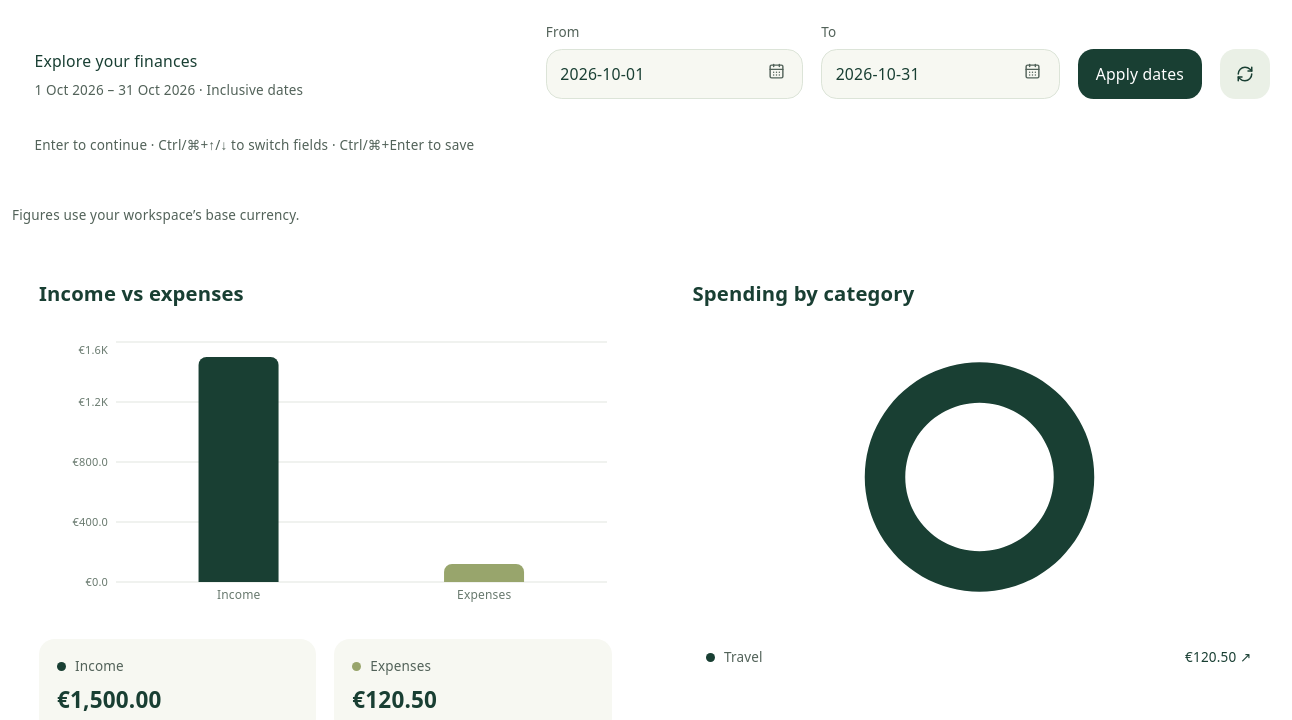
validates reversed and overly long date ranges without requesting them
Expected: the text "Travel" is shown, [706,648,763,666]
Replace the text in the field labelled "From" with "2026-10-31". click: (674, 74)
box: [546,50,803,99]
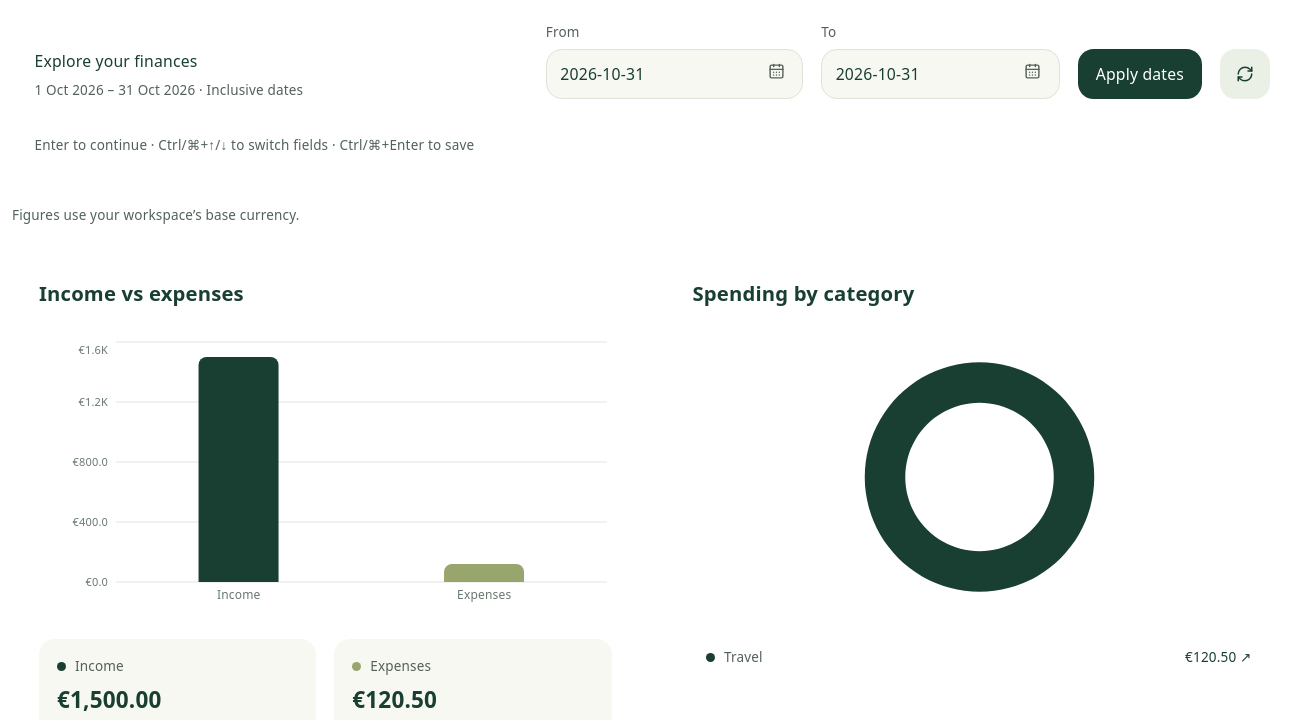
Replace the text in the field labelled "To" with "2026-10-01". click: (940, 74)
box: [821,50,1060,99]
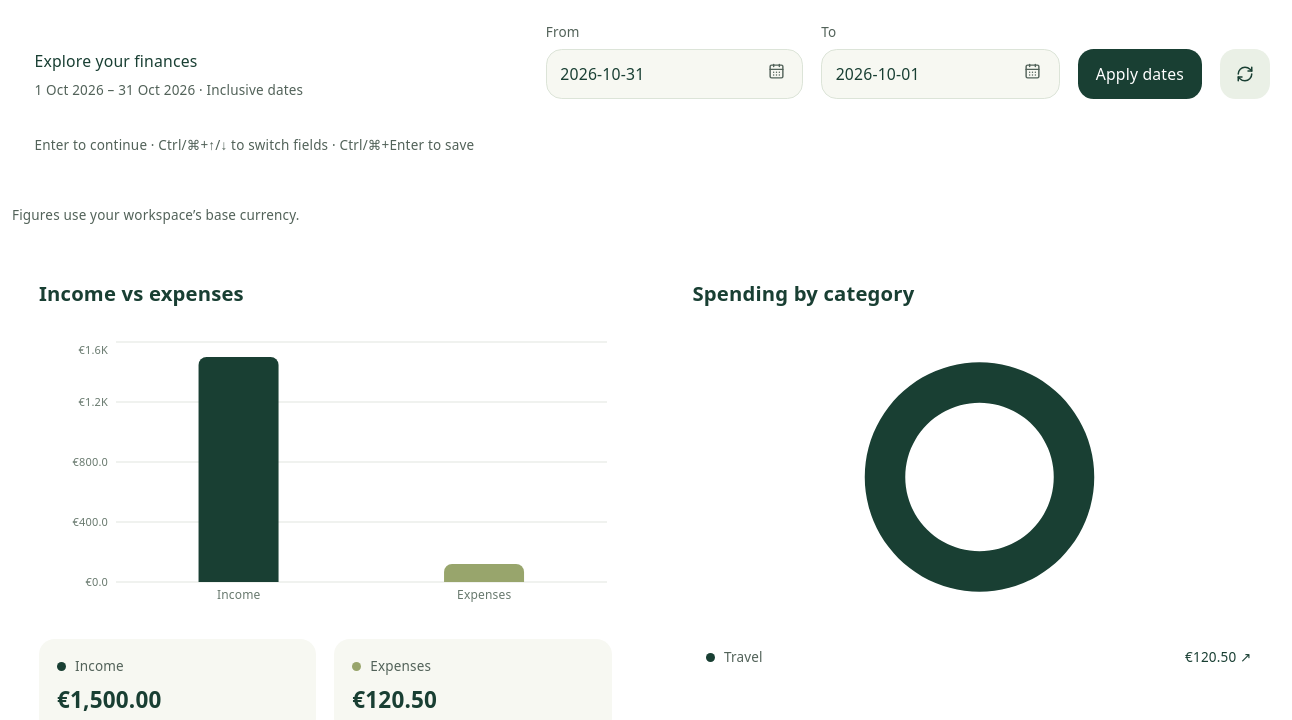
Click the button "Apply dates". click: click(1140, 74)
box: [1078,50,1202,99]
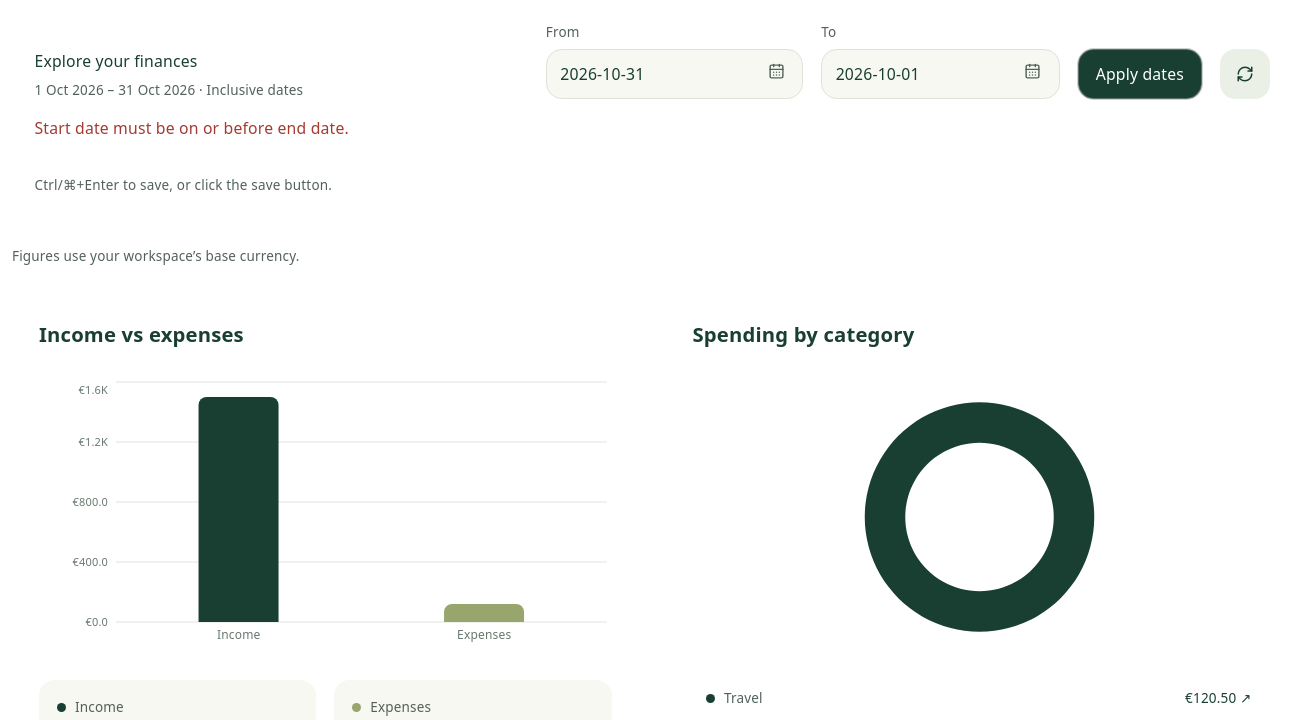
Expected: the message "Start date must be on or before end date." is shown, [34,117,349,139]
Replace the text in the field labelled "From" with "2000-01-01". click: (674, 74)
box: [546,50,803,99]
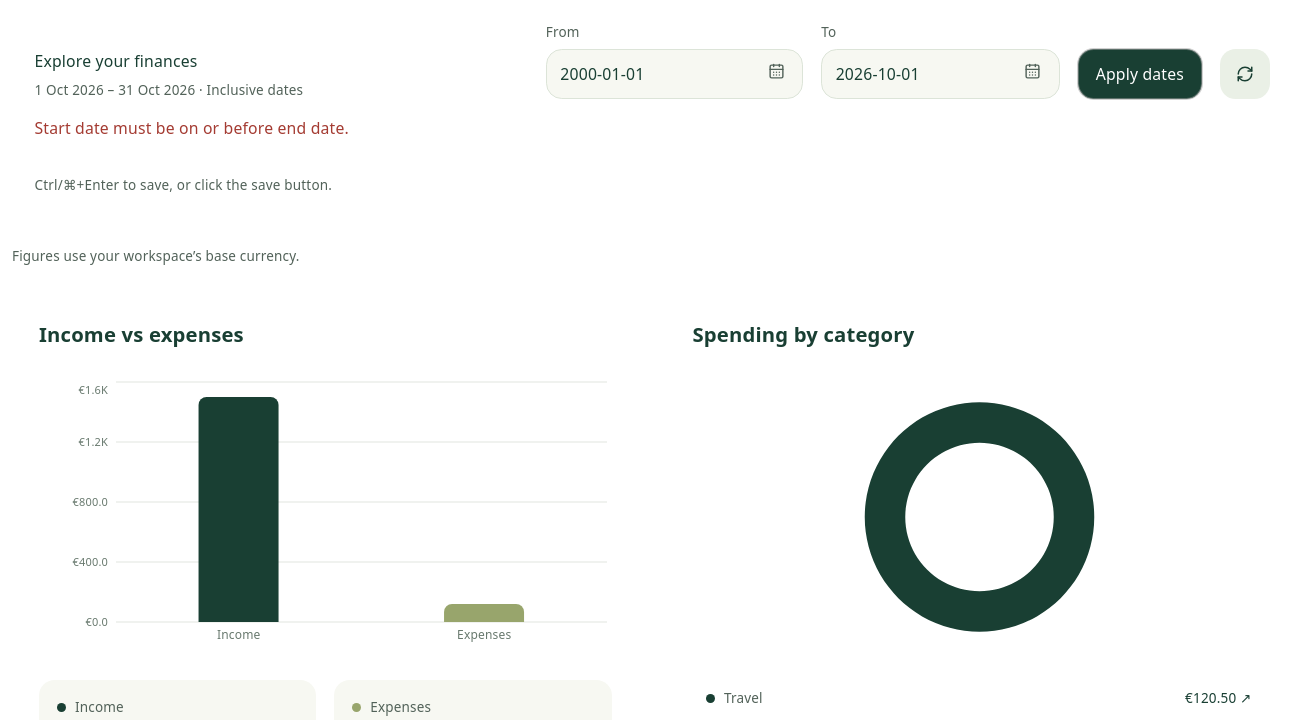
Click the button "Apply dates". click: click(1140, 74)
box: [1078,50,1202,99]
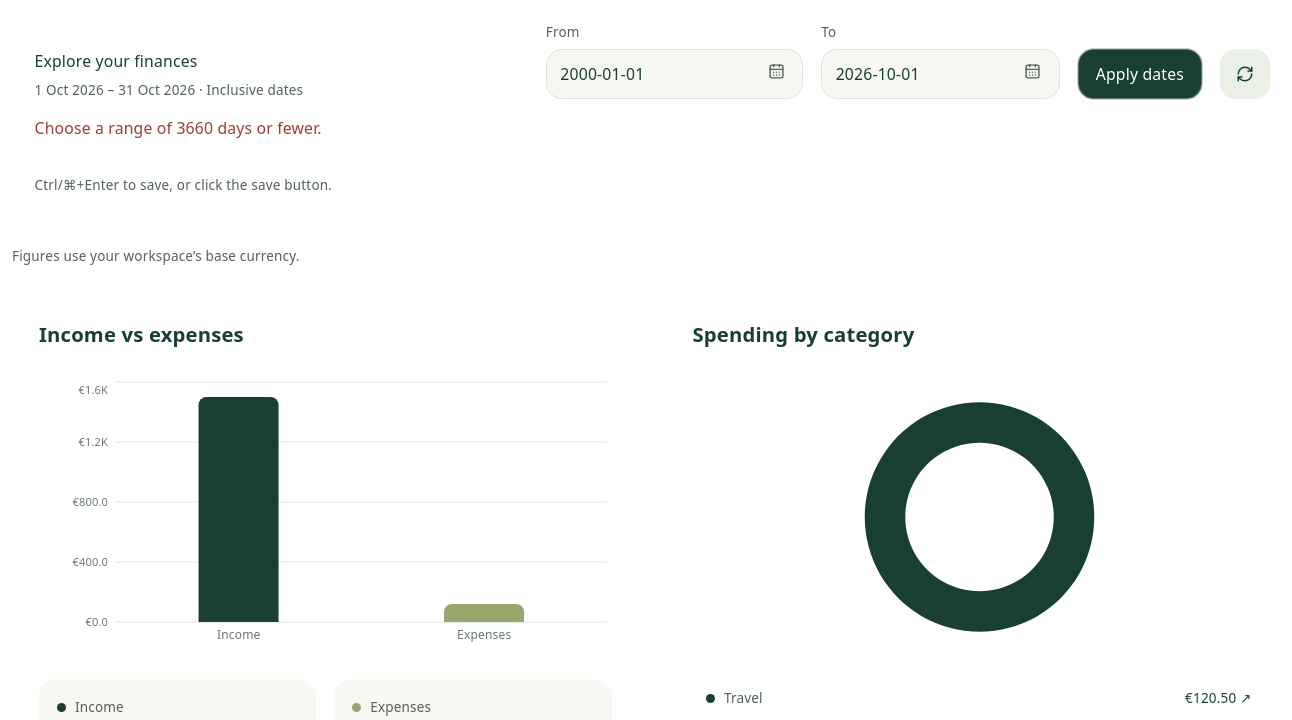
Expected: the message "Choose a range of 3660 days or fewer." is shown, [34,117,322,139]
